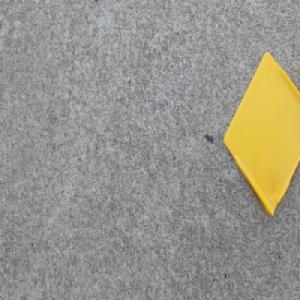PlasticPart: (223, 50, 300, 217)
